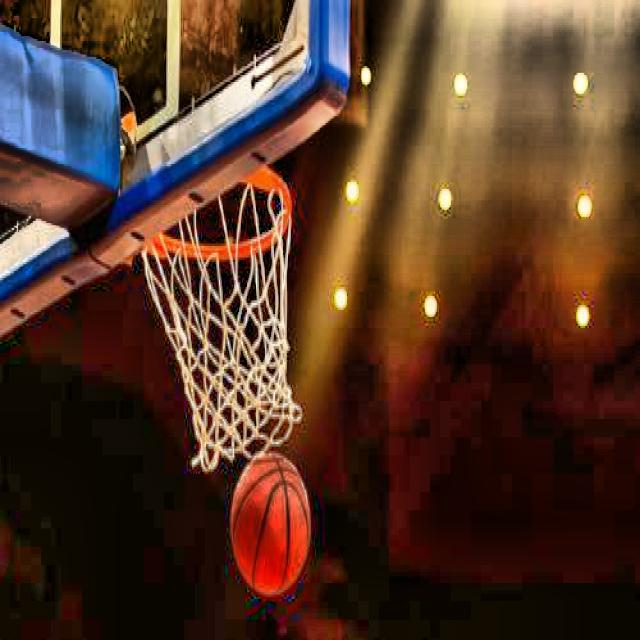board: (229, 452, 311, 596)
rim: (142, 161, 301, 461)
